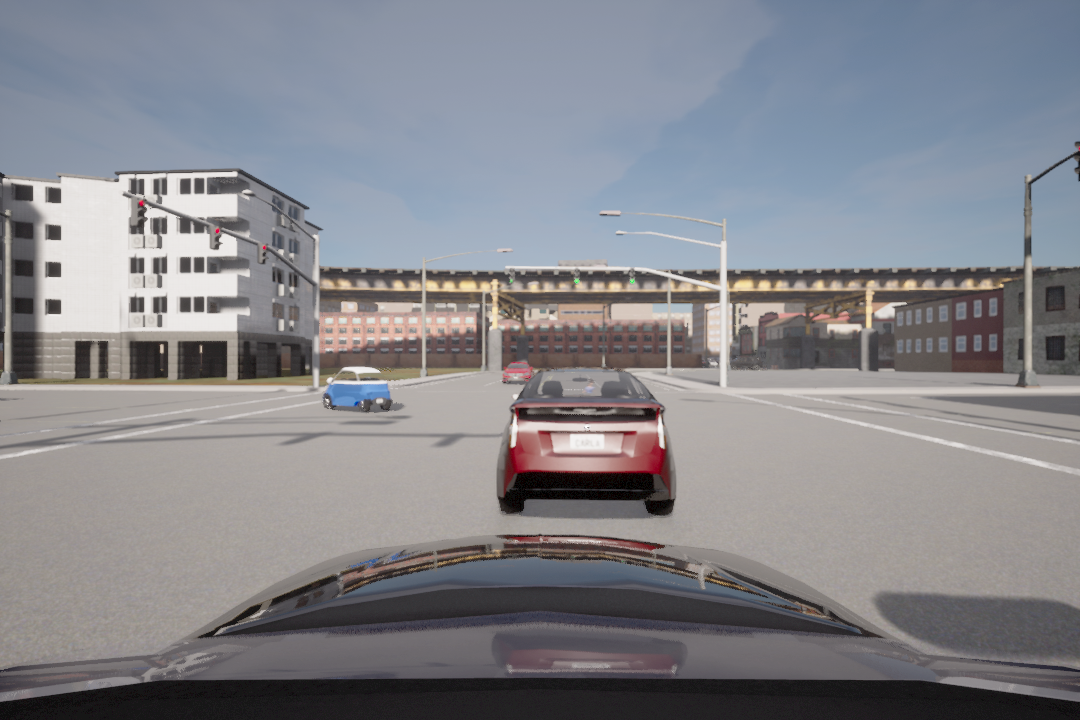TrafficLight: (129, 194, 146, 230), (209, 222, 223, 253), (254, 242, 268, 267), (573, 268, 582, 286), (629, 268, 638, 285), (509, 267, 516, 286)
